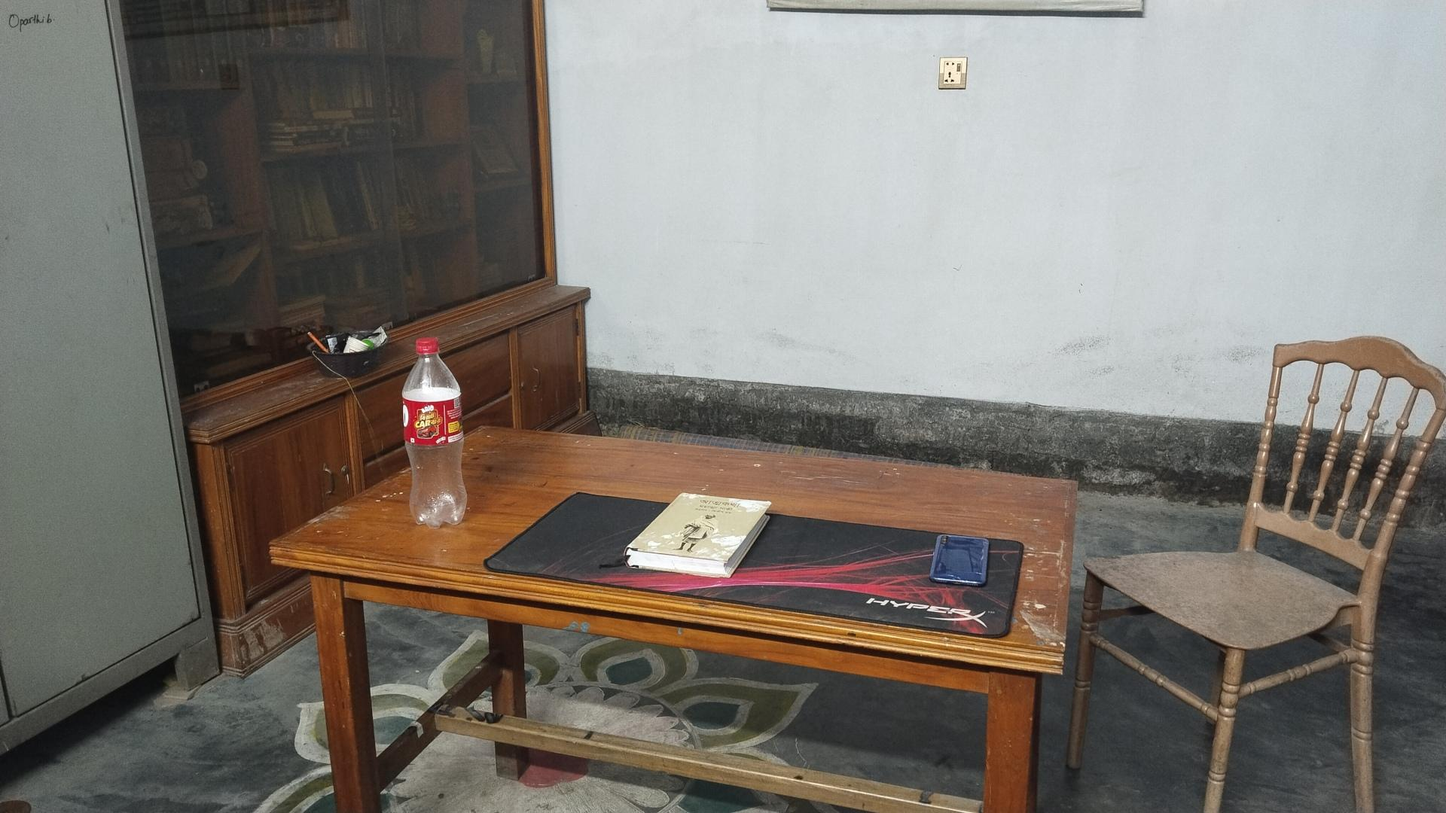Book: (623, 496, 772, 574)
Bottle: (395, 336, 467, 530)
Chair: (1073, 325, 1446, 813)
Phone: (928, 530, 989, 588)
Table: (261, 420, 1079, 813)
